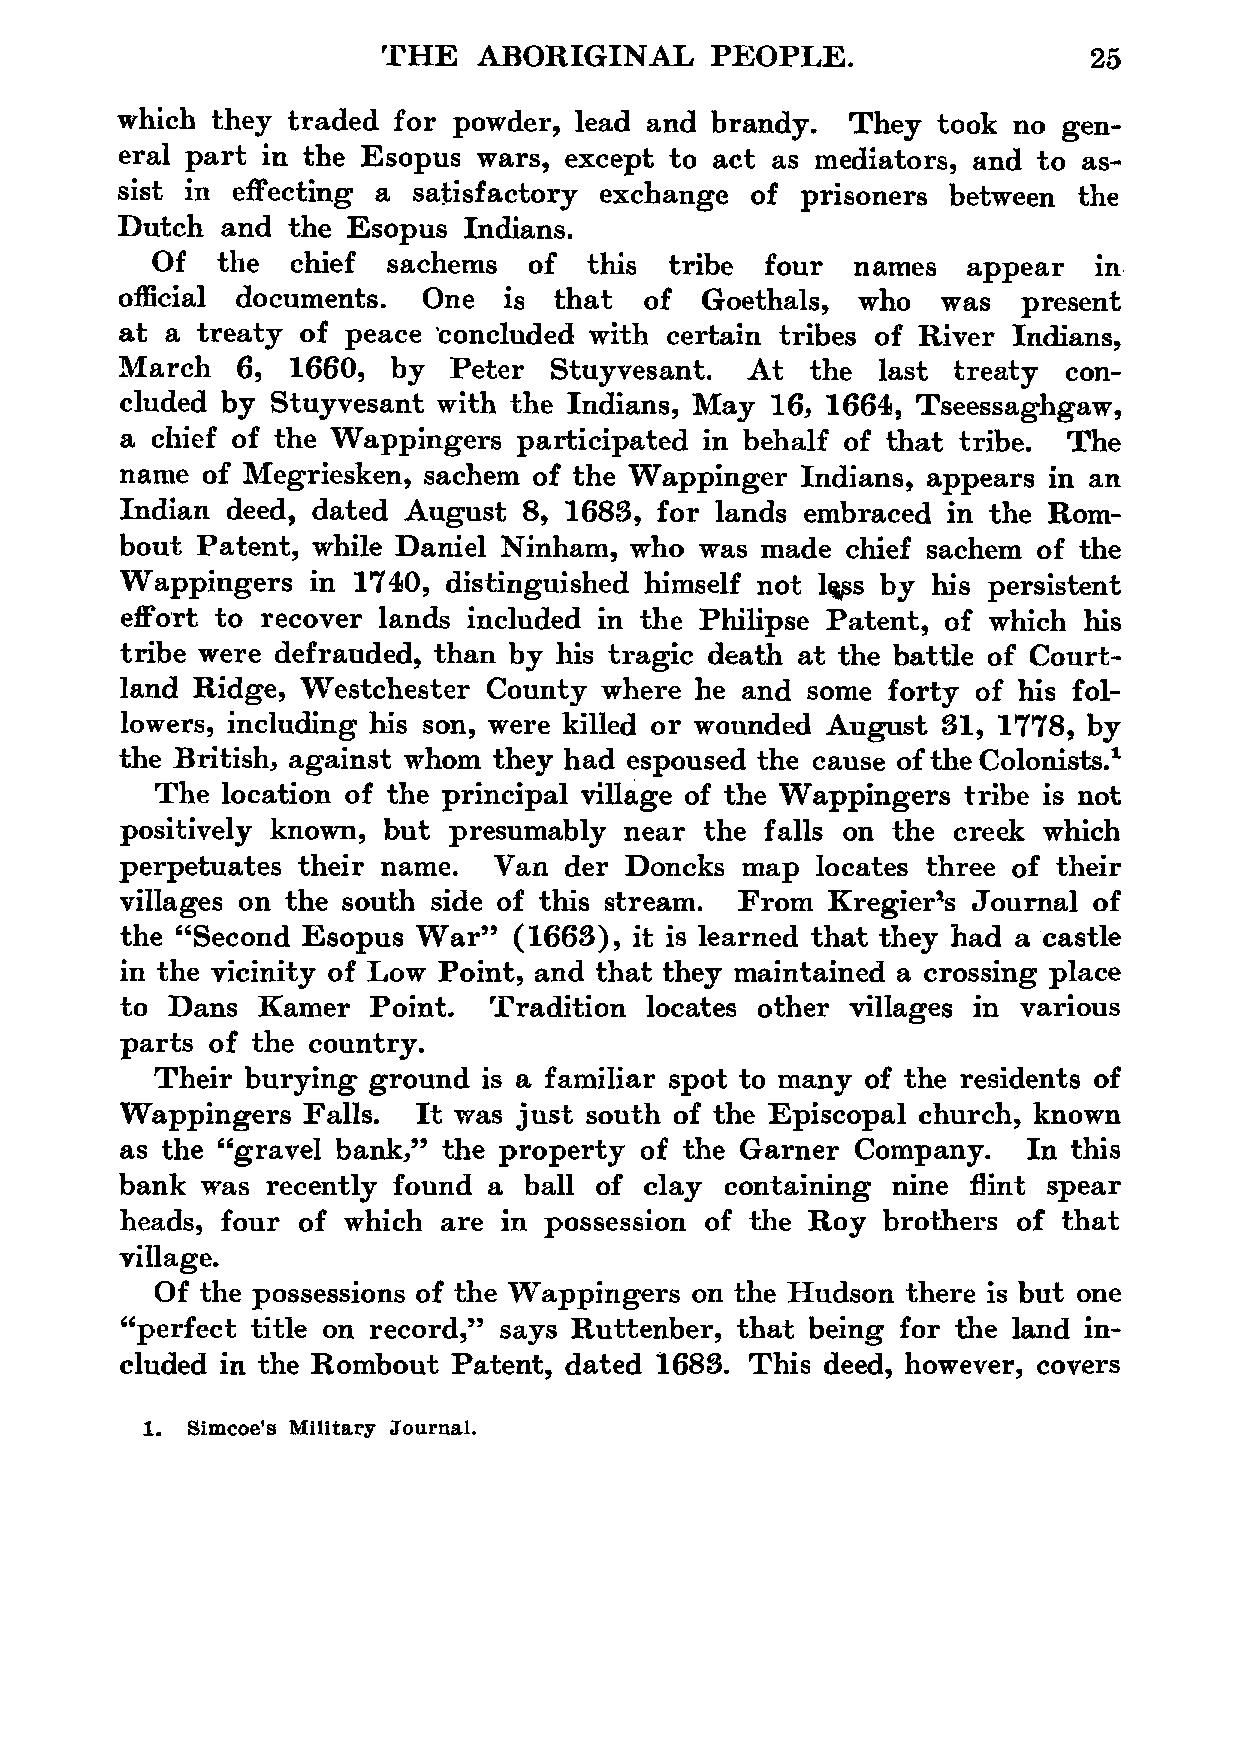content: (114, 101, 1125, 1381)
content_chapter: (376, 42, 854, 68)
content_pagenumber: (1087, 40, 1121, 71)
